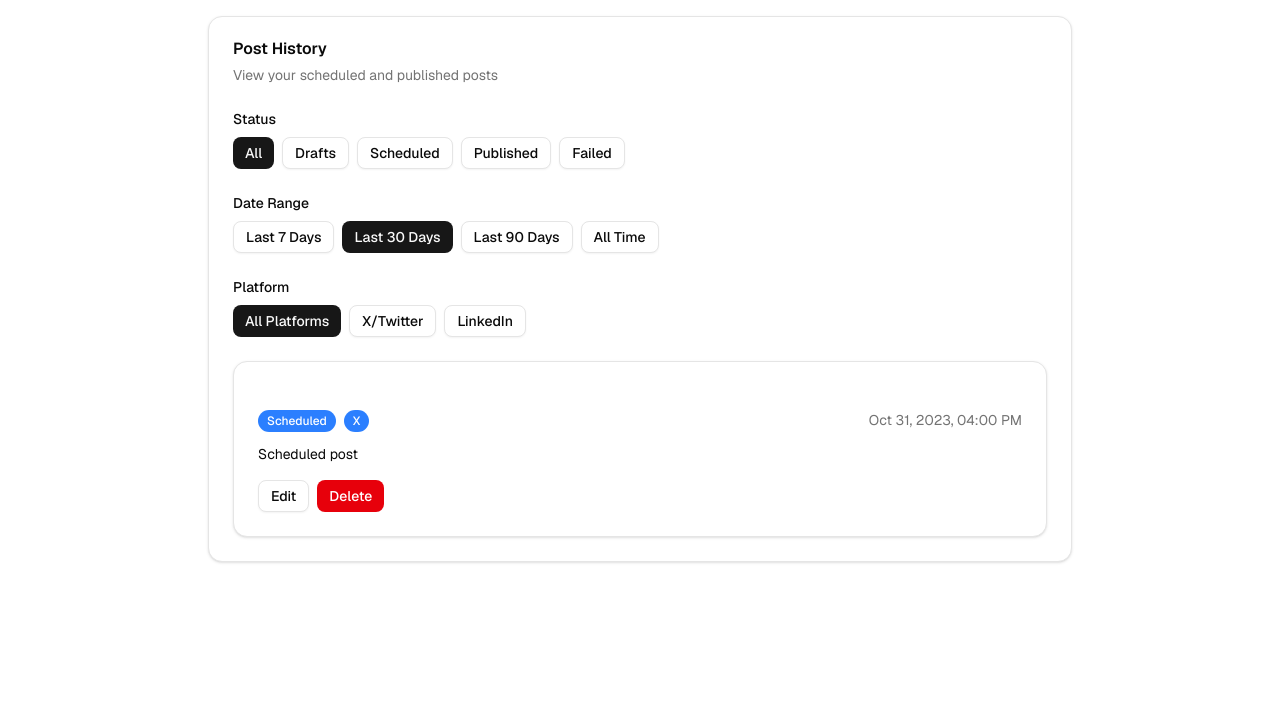
PostHistory Component › Delete Confirmation Dialog › should show confirmation dialog when Delete button is clicked
The width and height of the screenshot is (1280, 720).
Step 1. Click the button "Delete" → (351,496), box x1=317 y1=480 x2=384 y2=512
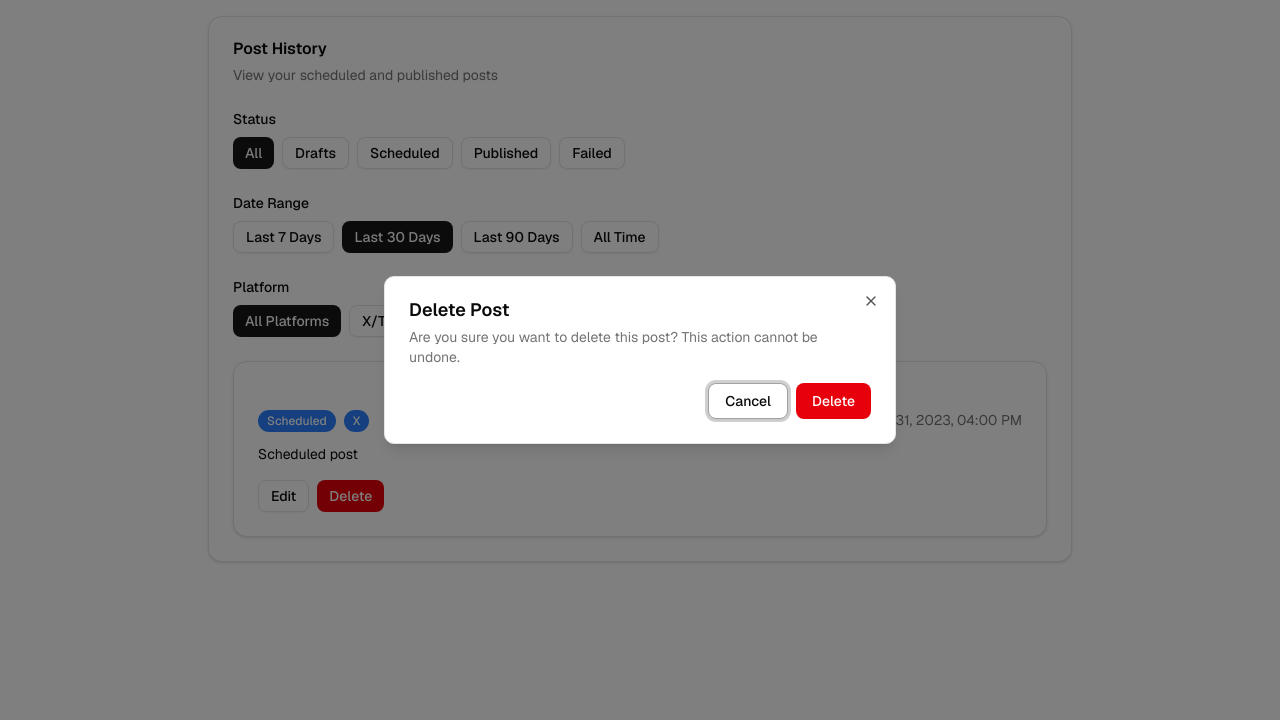
Now the heading "Delete Post" is shown, box x1=409 y1=298 x2=509 y2=321
Now the text "Are you sure you want to delete this post? This action cannot be undone." is shown, box x1=409 y1=327 x2=871 y2=367
